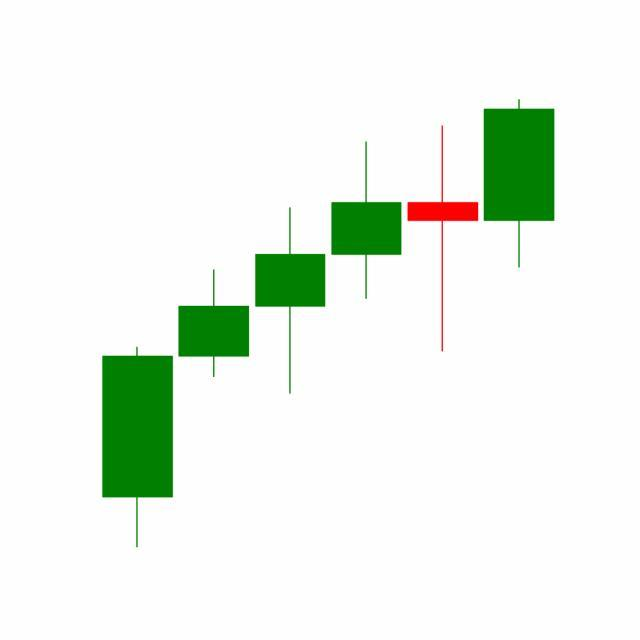Spinning Top: (404, 124, 482, 355)
